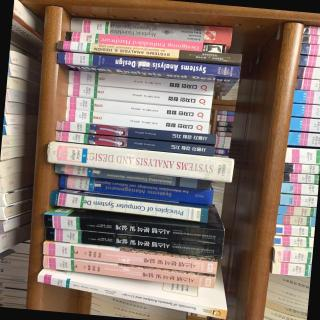book-spine: (35, 274, 227, 319), (45, 142, 234, 182), (42, 256, 215, 290), (42, 242, 217, 274), (44, 227, 222, 258), (42, 214, 224, 244), (56, 51, 240, 78), (58, 174, 213, 205), (49, 192, 208, 222), (69, 18, 232, 46), (55, 40, 241, 62), (53, 163, 210, 189), (55, 120, 215, 145), (55, 131, 214, 156), (64, 31, 225, 55), (67, 83, 212, 109), (65, 109, 208, 135), (67, 70, 214, 95), (65, 97, 210, 122)
